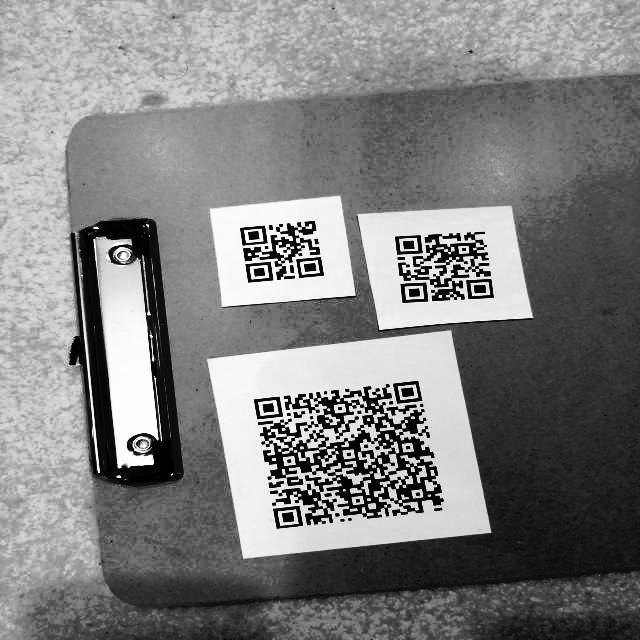qr_code: (241, 366, 460, 536), (375, 218, 522, 313), (226, 211, 332, 288)
